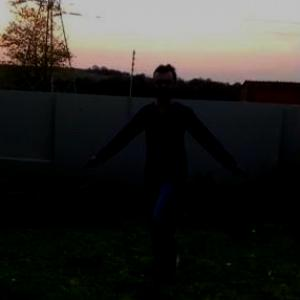land: (107, 74, 223, 244)
